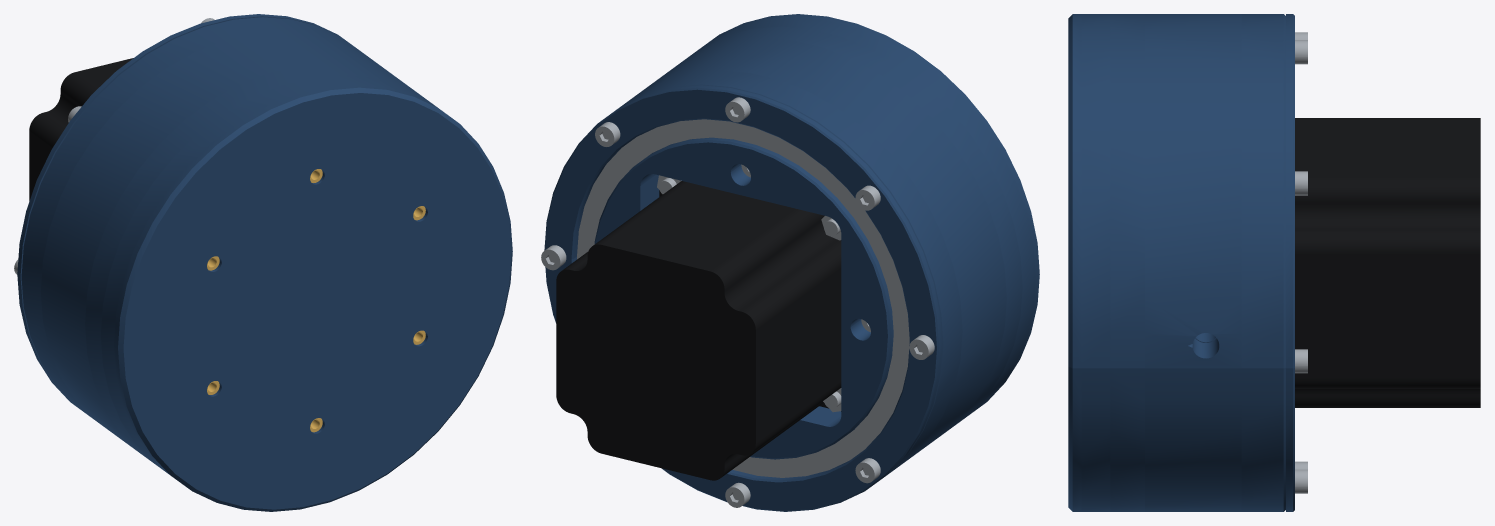
The model's file is planetary.glb.
3 views of the same model, side by side, from view 1: azimuth 30°, elevation 25°; view 2: azimuth 150°, elevation 25°; view 3: azimuth 270°, elevation 25° (orthographic). The views are drawn at different scales.
Visible parts, largest first — view 1: dynamic_spline, motor_body, output_bearing_cap; view 2: motor_body, dynamic_spline, output_bearing_cap, journal_sleeve, output_bearing; view 3: dynamic_spline, motor_body, output_bearing_cap.
Part boxes in pixels (x1=…): dynamic_spline: x1=21, y1=17, x2=512, y2=511; motor_body: x1=29, y1=58, x2=133, y2=200; output_bearing_cap: x1=17, y1=14, x2=341, y2=404; motor_body: x1=556, y1=181, x2=841, y2=480; dynamic_spline: x1=622, y1=14, x2=1039, y2=472; output_bearing_cap: x1=544, y1=85, x2=942, y2=511; journal_sleeve: x1=594, y1=137, x2=893, y2=459; output_bearing: x1=577, y1=119, x2=909, y2=477; dynamic_spline: x1=1068, y1=14, x2=1285, y2=511; motor_body: x1=1295, y1=118, x2=1480, y2=407; output_bearing_cap: x1=1286, y1=14, x2=1294, y2=511.
Bounding box in the file's own units: 113 × 112 × 93.2.
